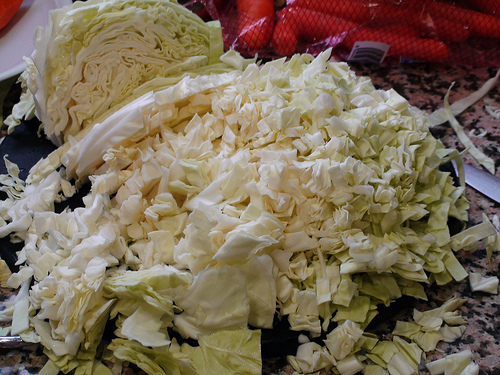cabbage: (0, 44, 499, 374), (23, 0, 224, 153)
